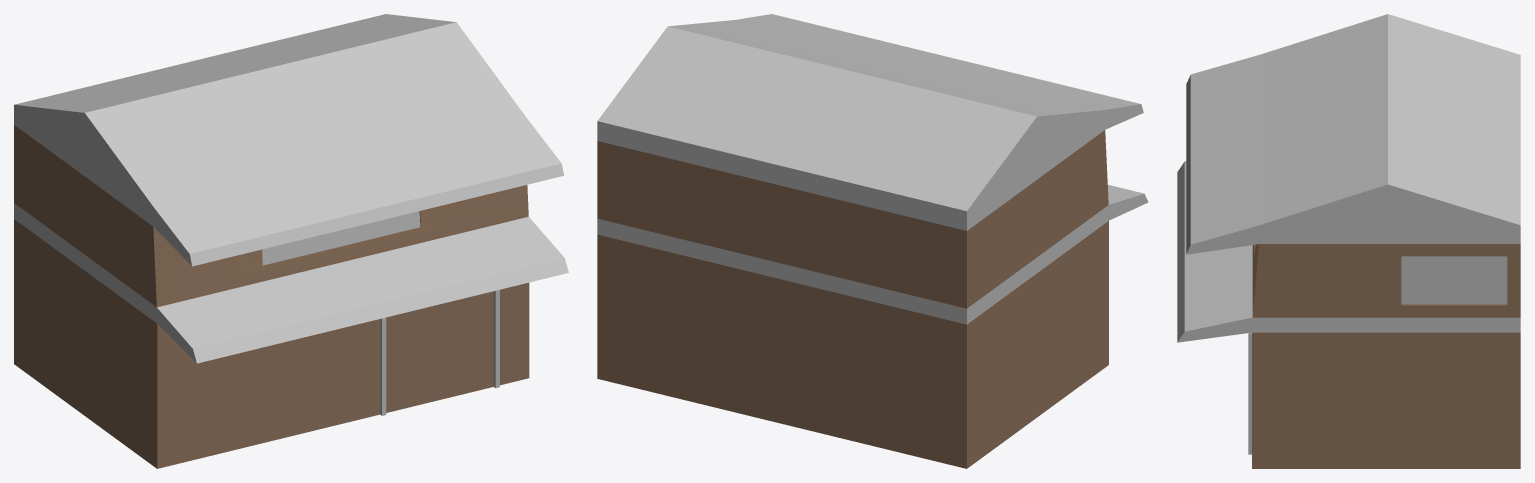
Rendered from HouseMadeira.fbx.
3 views of the same model, side by side, from view 1: azimuth 30°, elevation 25°; view 2: azimuth 150°, elevation 25°; view 3: azimuth 270°, elevation 25° (orthographic). The views are drawn at different scales.
Visible parts, largest first — view 1: HouseMadeira; view 2: HouseMadeira; view 3: HouseMadeira.
Boxes of the visible parts, x1,y1,x2,y2 form: HouseMadeira: (14,14,568,468); HouseMadeira: (597,14,1148,468); HouseMadeira: (1177,14,1520,468).
Size of the model in its own units: 600 by 467 by 511.
